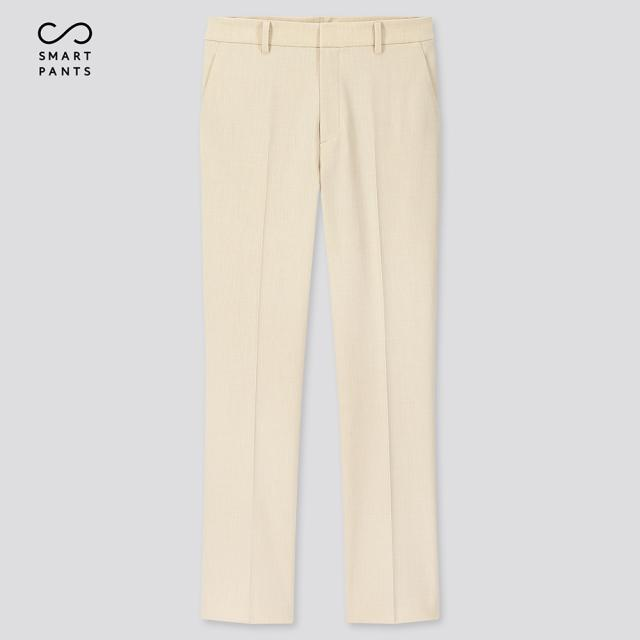long-pants: (198, 15, 447, 633)
